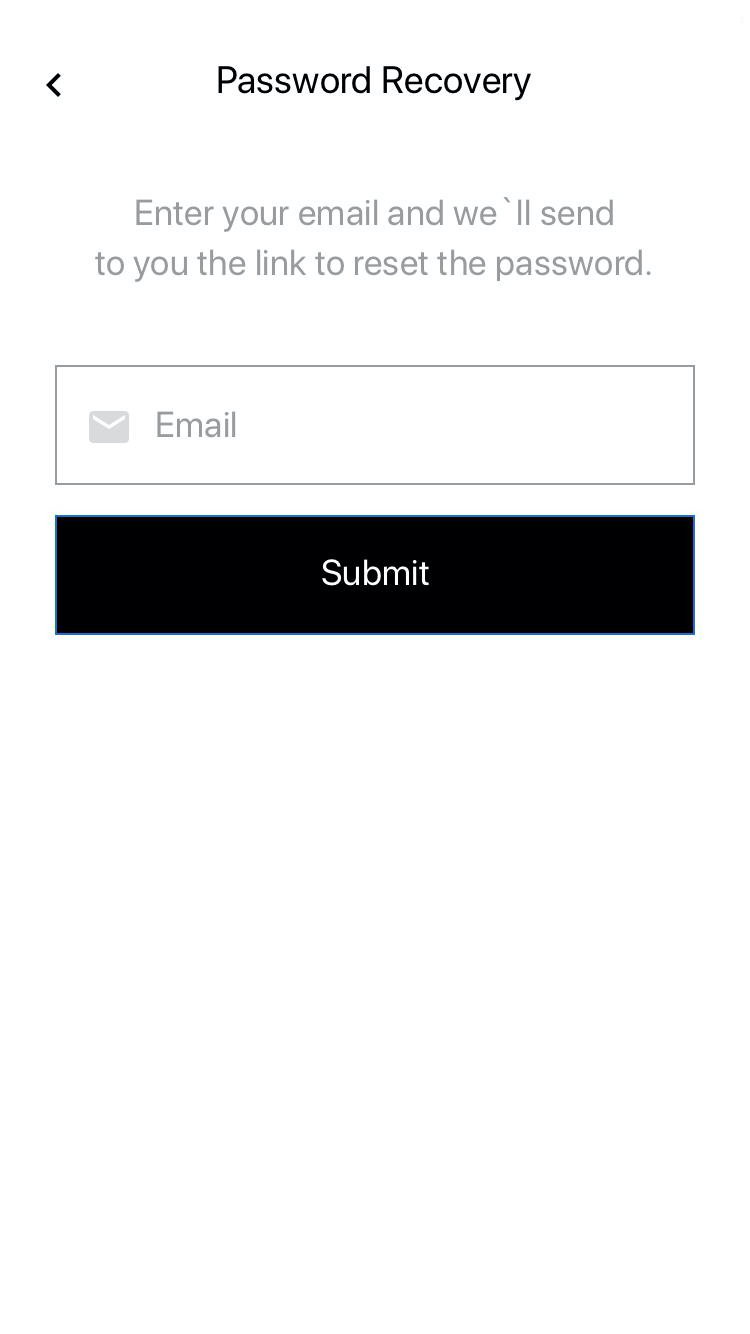EditText: (56, 366, 695, 486)
Icon: (89, 411, 131, 445), (47, 74, 62, 98)
Text: (95, 197, 651, 284), (218, 66, 532, 102), (157, 411, 237, 439)
TextButton: (56, 516, 695, 636)
